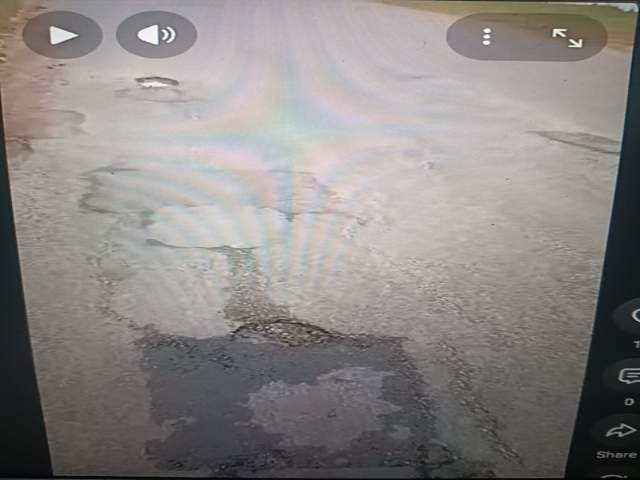pothole: (542, 403, 640, 480)
